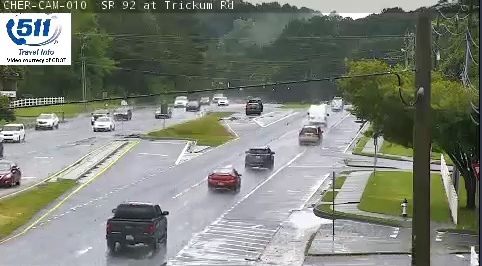car: (106, 203, 167, 243), (208, 169, 240, 189), (245, 147, 274, 168), (299, 126, 322, 145)
van: (308, 104, 326, 125)
